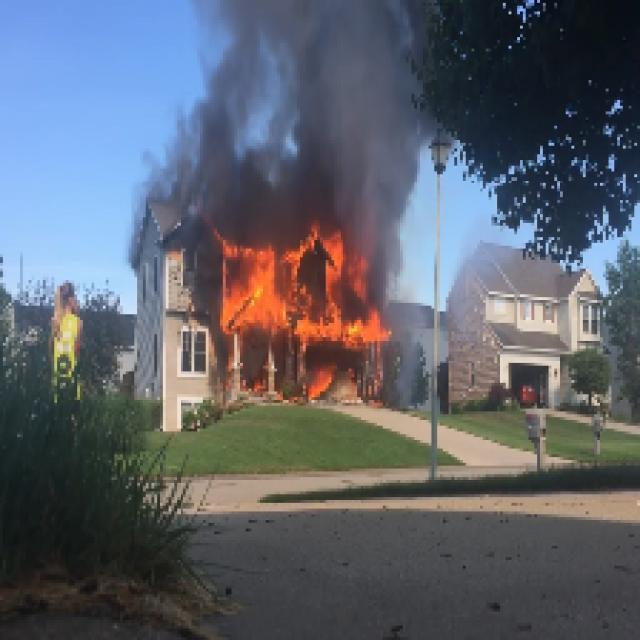Fire: (220, 237, 372, 337)
Smoke: (168, 2, 414, 212), (388, 220, 432, 397), (123, 148, 166, 263)
